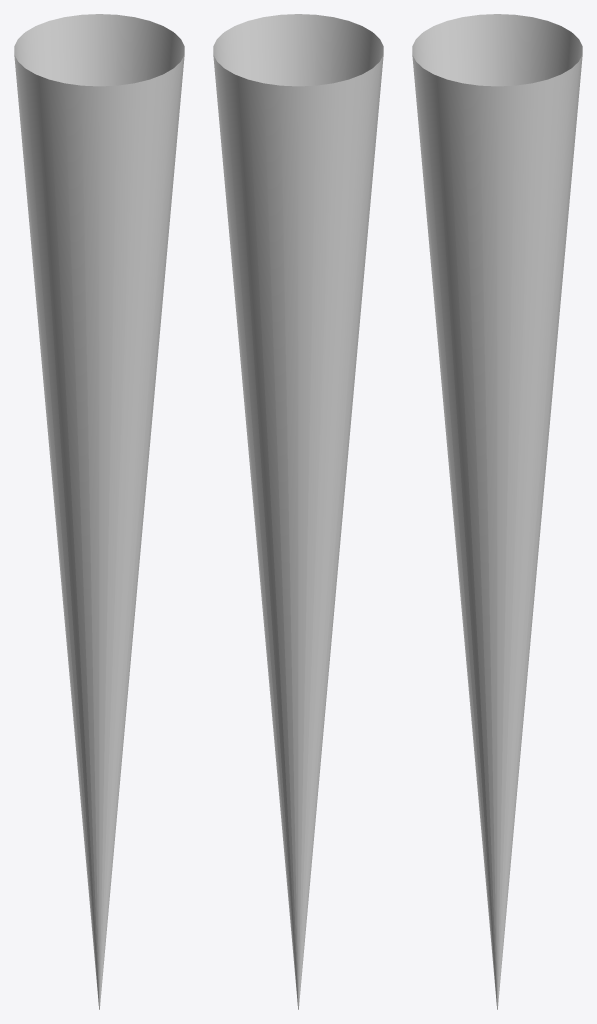
File: LigtMoving.FBX
3 views of the same model, side by side, from view 1: azimuth 30°, elevation 25°; view 2: azimuth 150°, elevation 25°; view 3: azimuth 270°, elevation 25° (orthographic).
Visible parts, largest first — view 1: Cylinder012; view 2: Cylinder012; view 3: Cylinder012.
Boxes of the visible parts, x1,y1,x2,y2 form: Cylinder012: (14,14,184,1009); Cylinder012: (213,14,383,1009); Cylinder012: (412,14,582,1009).
Size of the model in its own units: 3.24 by 20 by 3.22.
